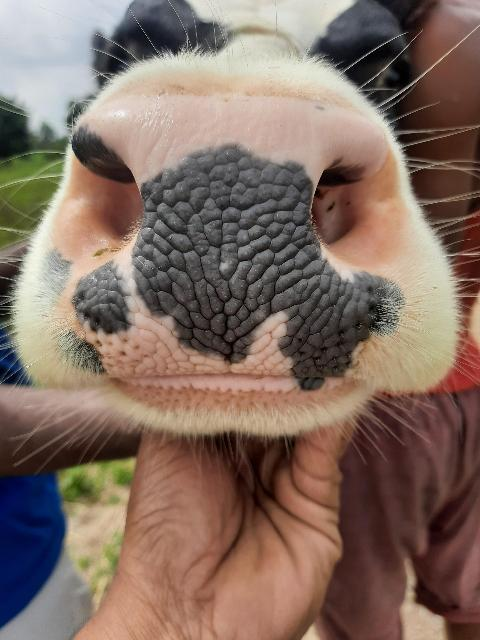Muzzle: (94, 110, 346, 376)
